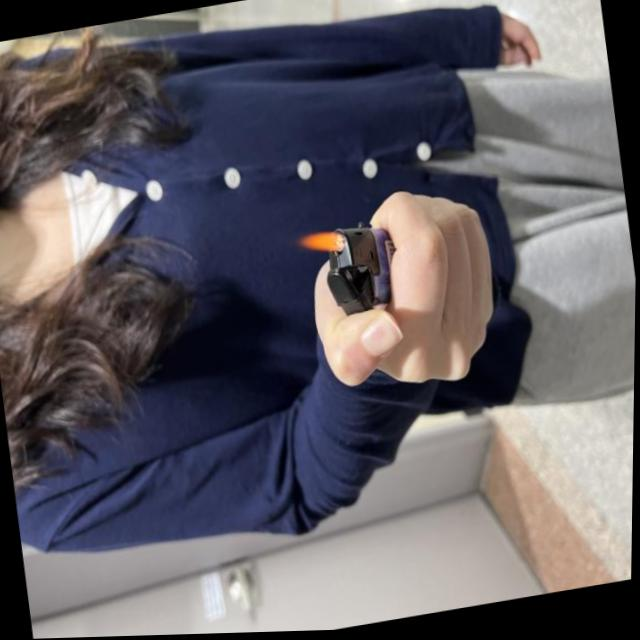Fire: (288, 231, 346, 261)
